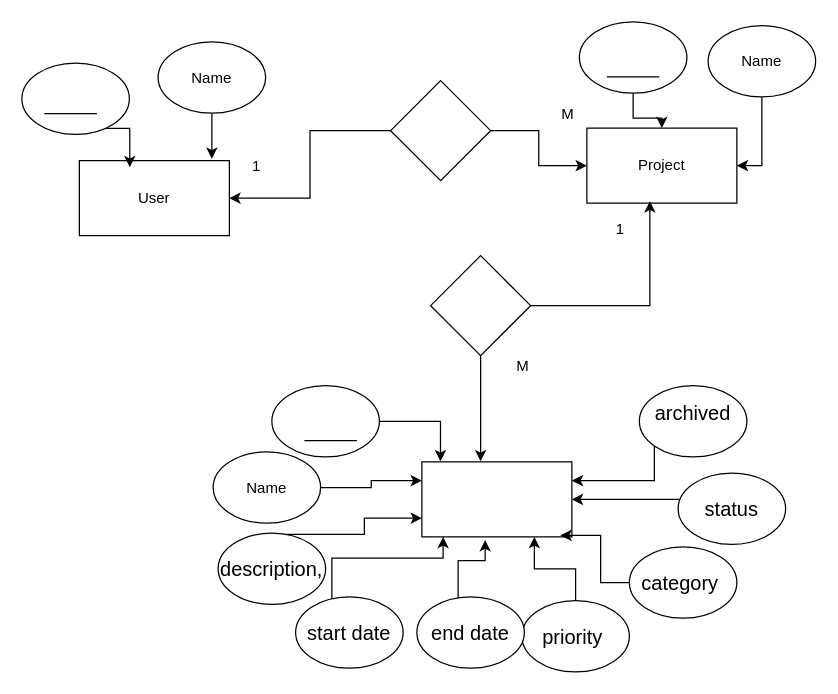
Image size: 838x694. Some labels were removed from this diagram. The centre of each missing label's shape, as x and y in pixels:
"create" goes at (x=440, y=130).
"has" goes at (x=480, y=305).
"Project_ID" goes at (x=632, y=57).
"Task" goes at (x=496, y=499).
"Task_ID" goes at (x=325, y=420).
"User_ID" goes at (x=75, y=98).
